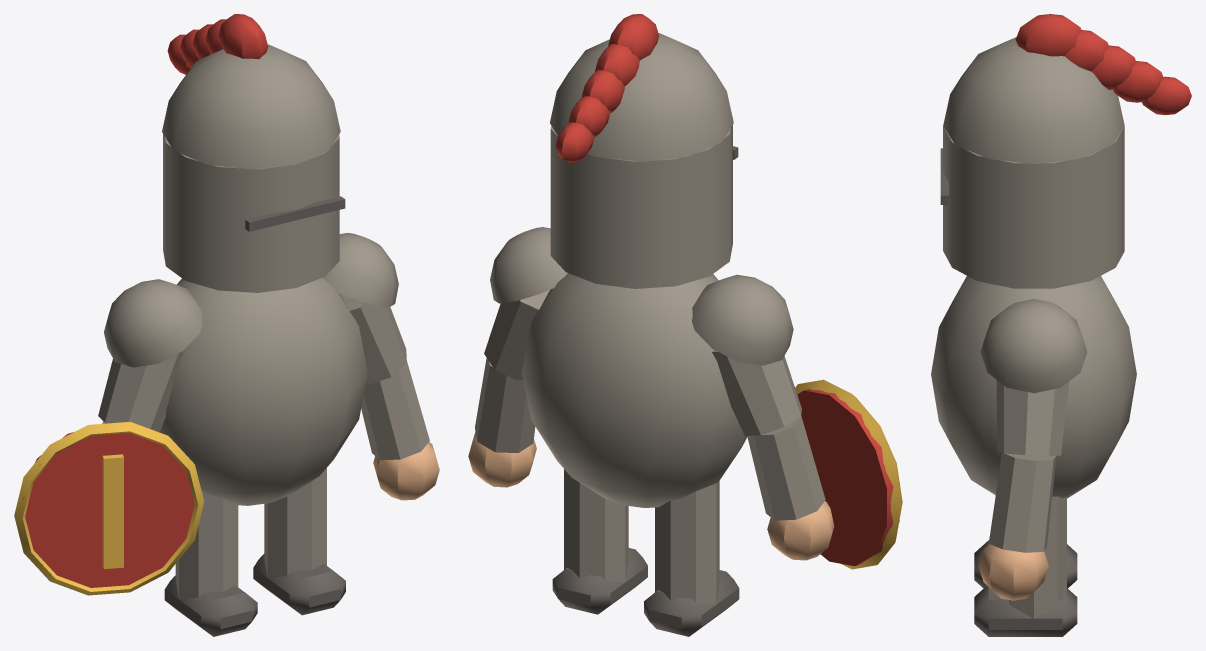
File: CH_Cust_16_Sovalye.fbx
3 renders of one model, left to right at view 1: azimuth 30°, elevation 25°; view 2: azimuth 150°, elevation 25°; view 3: azimuth 270°, elevation 25°, orthographic. The views are drawn at different scales.
Visible parts, largest first — view 1: CH_Cust_16_Sovalye; view 2: CH_Cust_16_Sovalye; view 3: CH_Cust_16_Sovalye.
Part boxes in pixels (box(x1,y1,x2,y2)): CH_Cust_16_Sovalye: box(14, 14, 439, 636); CH_Cust_16_Sovalye: box(468, 14, 902, 636); CH_Cust_16_Sovalye: box(931, 14, 1191, 636).
Size of the model in its own units: 1.2 by 1.59 by 0.6337.
1 material, 1 textured.
